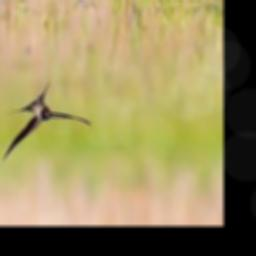Swallow: (4, 84, 92, 161)
